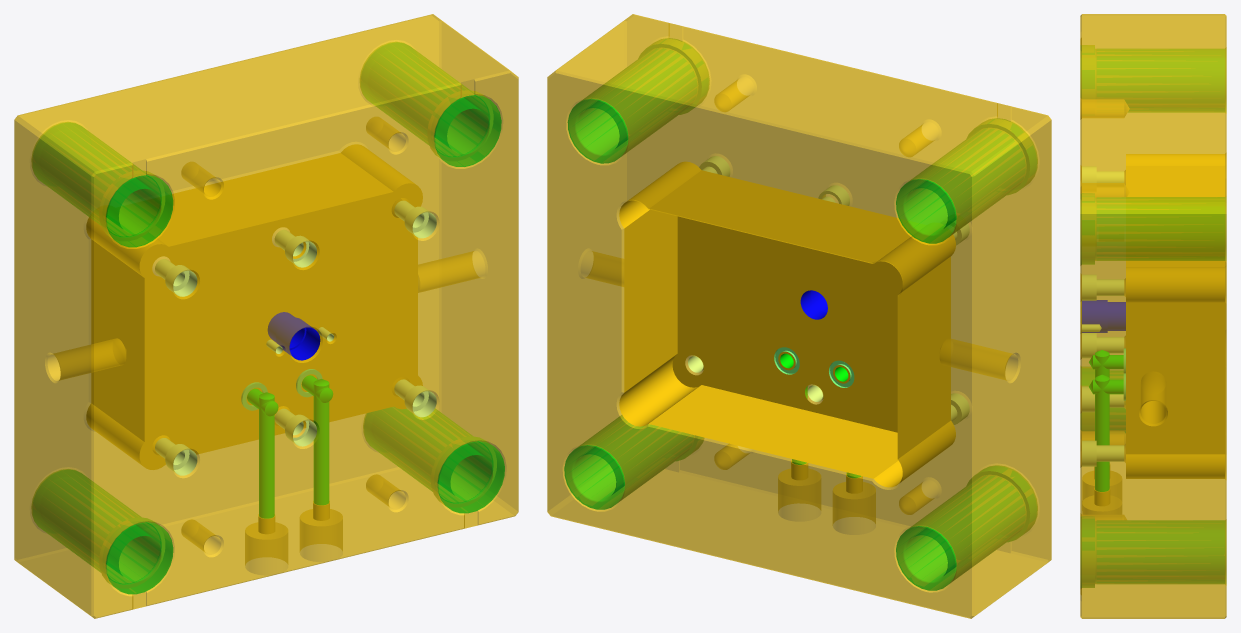
The model's file is a_plate.glb.
3 views of the same model, side by side, from view 1: azimuth 30°, elevation 25°; view 2: azimuth 150°, elevation 25°; view 3: azimuth 270°, elevation 25° (orthographic). The views are drawn at different scales.
Parts seen in each view (by area): view 1: cardcase_a_plate_043, cardcase_gba_1_038 (×4); view 2: cardcase_a_plate_043, cardcase_gba_1_038 (×4); view 3: cardcase_a_plate_043, cardcase_gba_1_038 (×4).
Part boxes in pixels (x1,y1,x2,y2): cardcase_a_plate_043: (14,14,518,618); cardcase_gba_1_038 (×4): (32,42,504,594); cardcase_a_plate_043: (547,14,1051,618); cardcase_gba_1_038 (×4): (564,38,1037,590); cardcase_a_plate_043: (1080,14,1226,618); cardcase_gba_1_038 (×4): (1081,45,1225,587).
Bounding box in the file's own units: 0.25 × 0.25 × 0.08.
